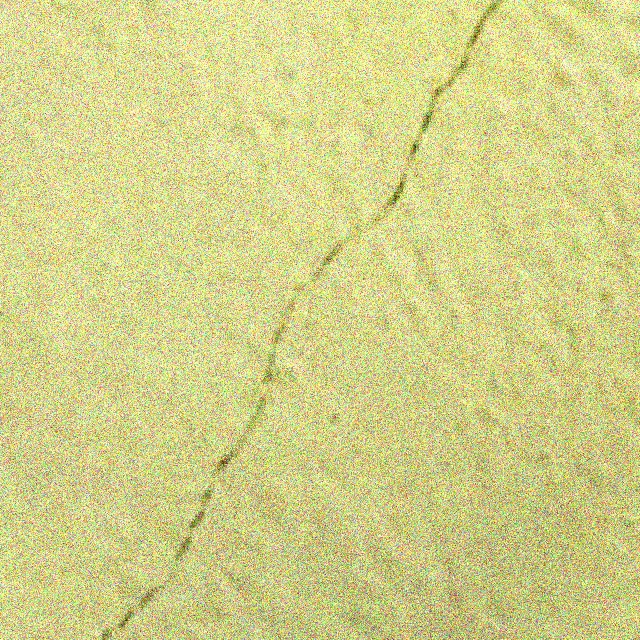SurfaceCrack: (90, 2, 526, 640)
